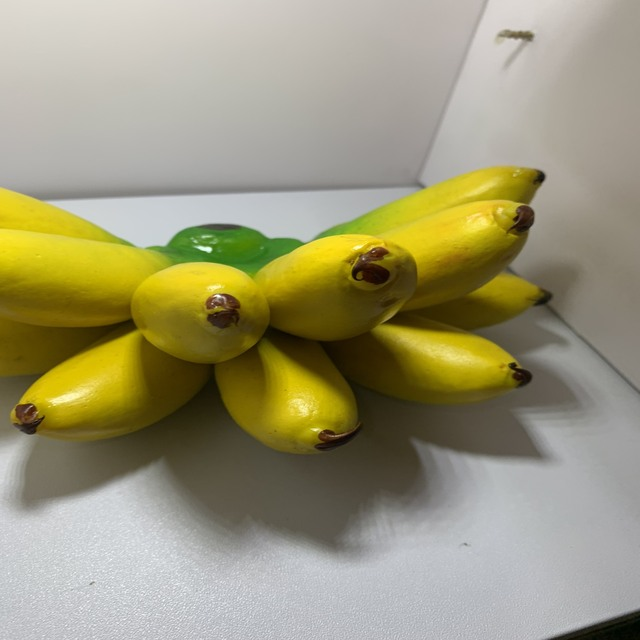Chuoi: (0, 151, 551, 463)
